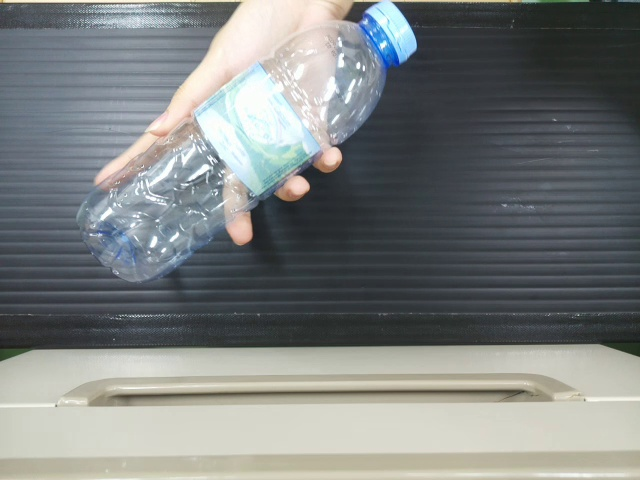bottle: (76, 0, 413, 280)
